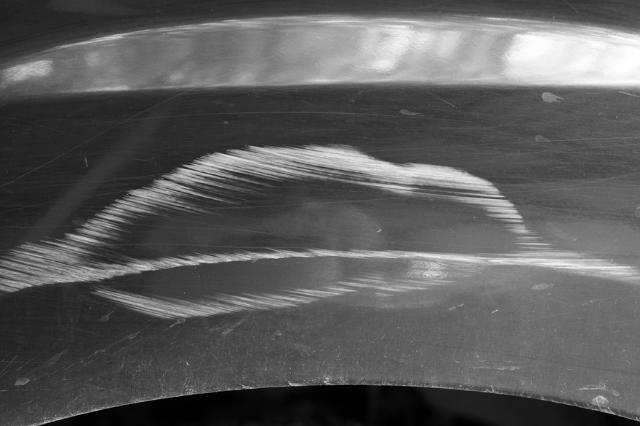Fender: (0, 42, 640, 423)
